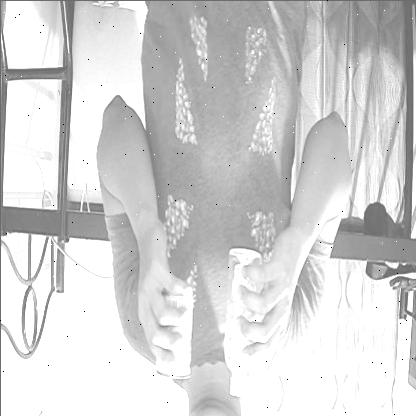Plastic Bottle: (216, 235, 267, 393)
